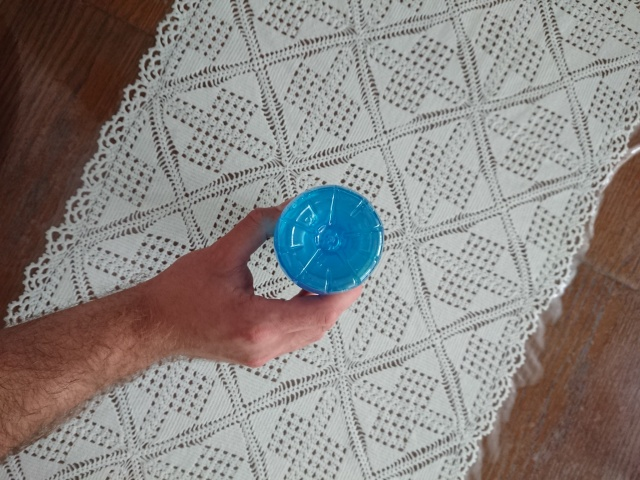Vindi Iso Sport Forest Strawberries 500mL: (270, 183, 386, 297)
